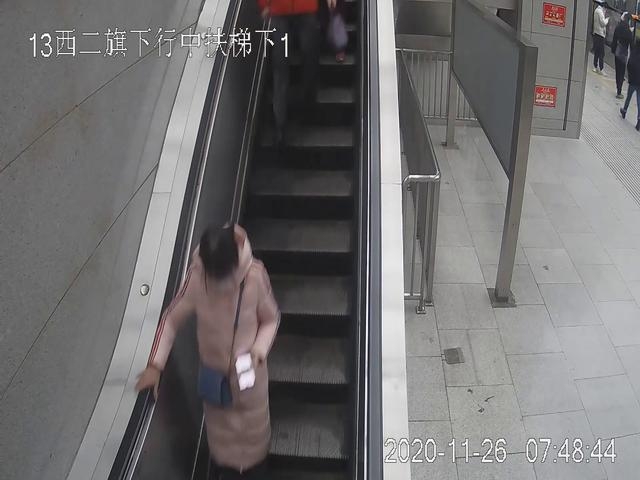person: (138, 226, 281, 480), (614, 13, 638, 98), (591, 4, 609, 75)
